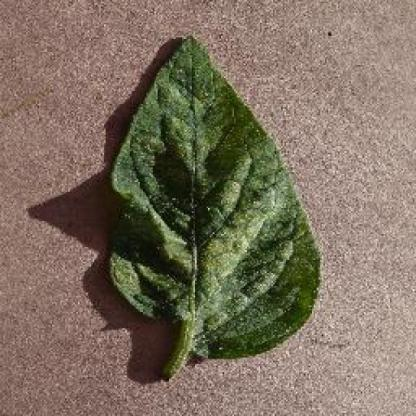Tomato_Spider_Mites: (110, 36, 320, 356)
